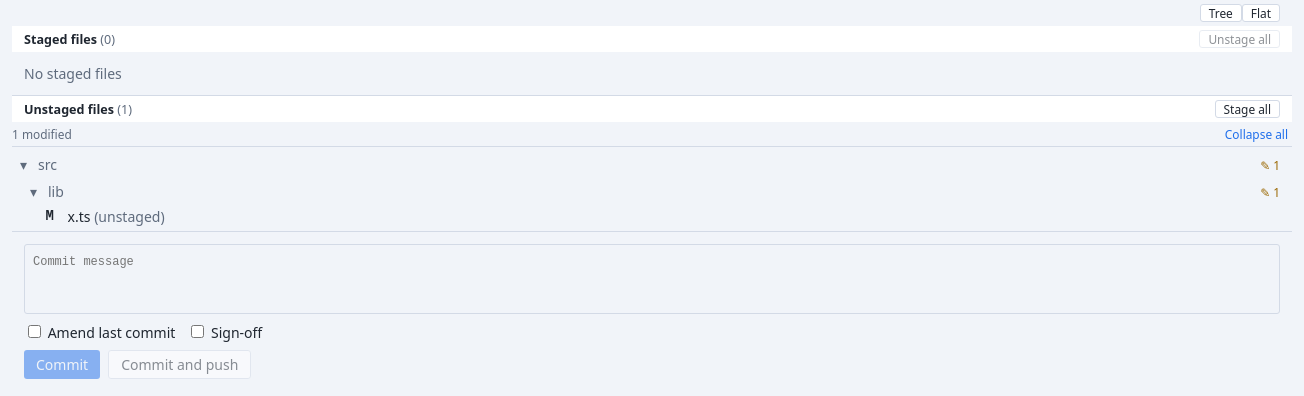
Scenario: WipPane › tree mode nests files under collapsible folders; flat mode lists paths
Expected: the button titled "src/lib/x.ts" is shown, [12,205,1292,227]
Click the button titled "src/lib": coordinates (34, 192) [12,178,1292,205]
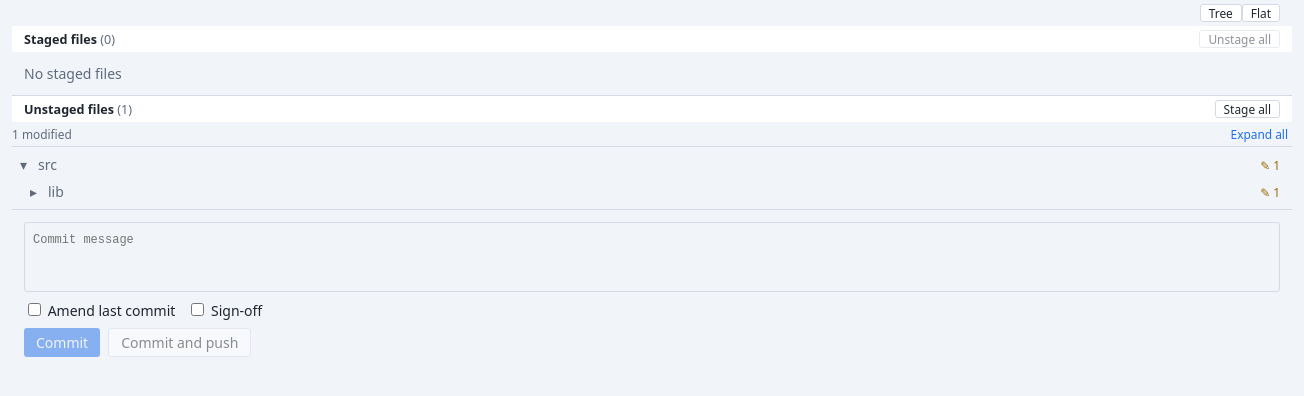
Click the button "Flat": coordinates (1261, 13) [1242,4,1280,22]
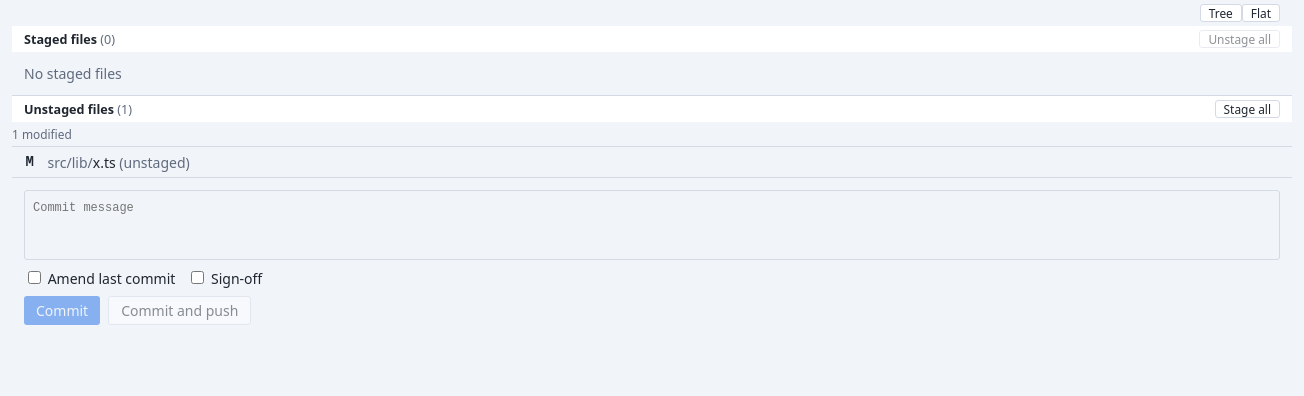
Now the button titled "src/lib/x.ts" is shown, box [12,151,1292,173]
Now the button titled "src/lib" is gone
